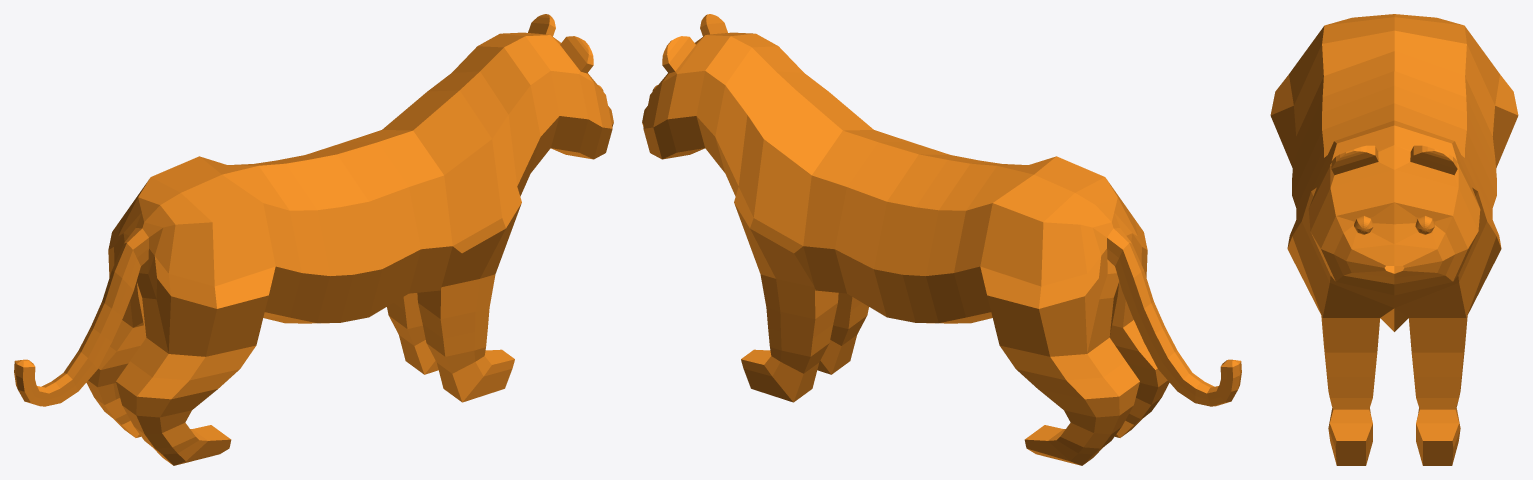
The model's file is BabyTiger.garfield.notfinalversion.fbx.
3 renders of one model, left to right at view 1: azimuth 30°, elevation 25°; view 2: azimuth 150°, elevation 25°; view 3: azimuth 270°, elevation 25°, orthographic. The views are drawn at different scales.
Parts seen in each view (by area): view 1: Circle; view 2: Circle; view 3: Circle.
Boxes of the visible parts, bbox=[...] form: Circle: bbox=[14, 14, 613, 465]; Circle: bbox=[642, 14, 1241, 465]; Circle: bbox=[1270, 14, 1518, 465].
Bounding box in the file's own units: 500 × 264 × 162.
